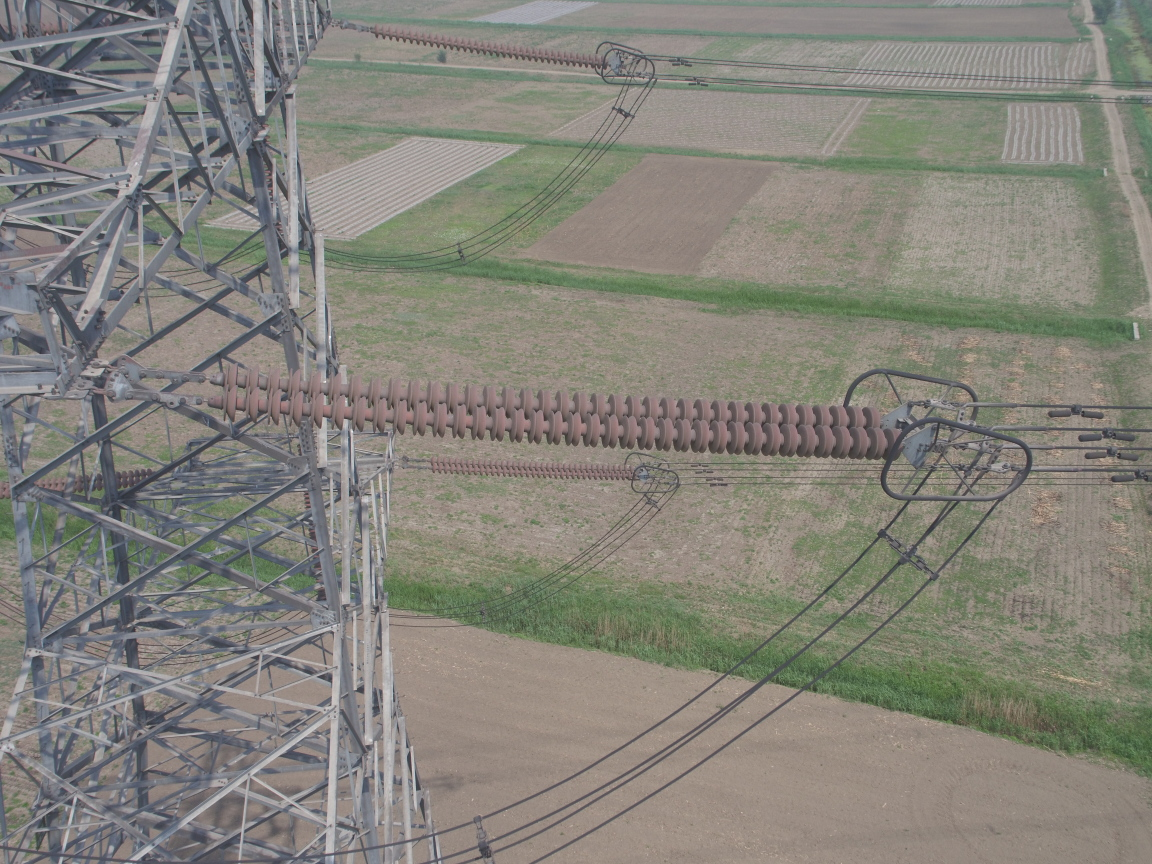insulator: (167, 362, 914, 461), (356, 23, 614, 74), (419, 456, 638, 485)
